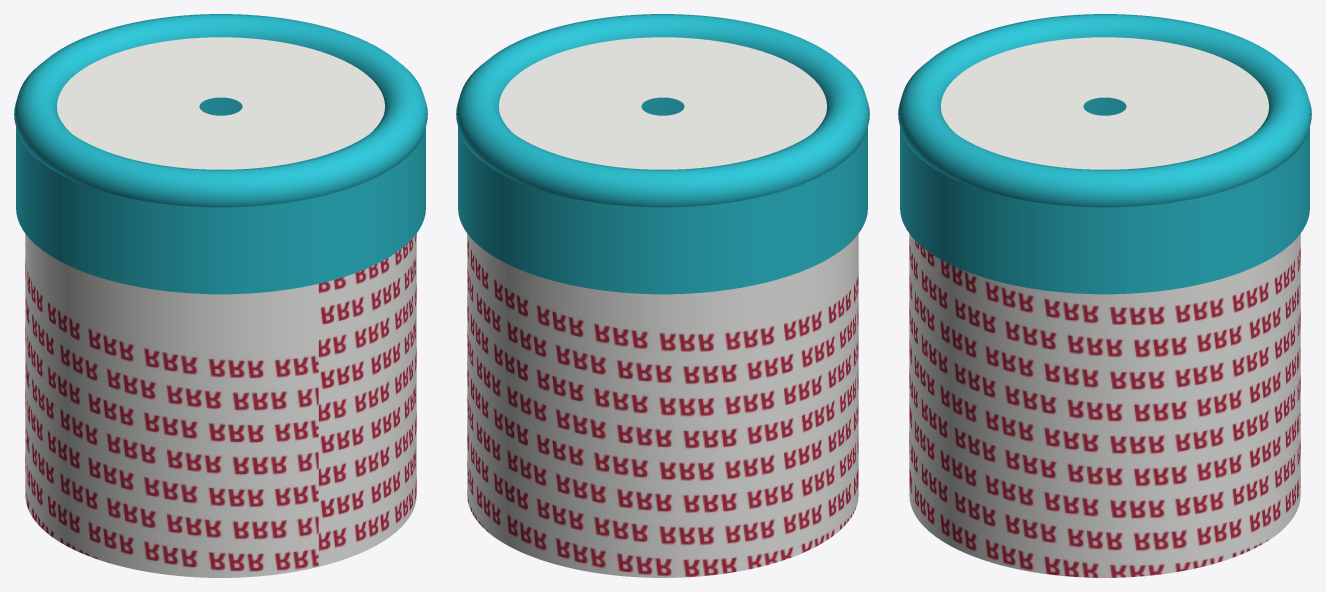
The picture shows the model from 3 angles, left to right: view 1: azimuth 30°, elevation 25°; view 2: azimuth 150°, elevation 25°; view 3: azimuth 270°, elevation 25°; orthographic projection.
Parts seen in each view (by area): view 1: X30-H114; view 2: X30-H114; view 3: X30-H114.
Boxes of the visible parts, x1,y1,x2,y2 form: X30-H114: (14,14,427,577); X30-H114: (456,14,869,577); X30-H114: (898,14,1311,577).
Size of the model in its own units: 0.11 by 0.1177 by 0.11.
6 materials, 1 textured.
